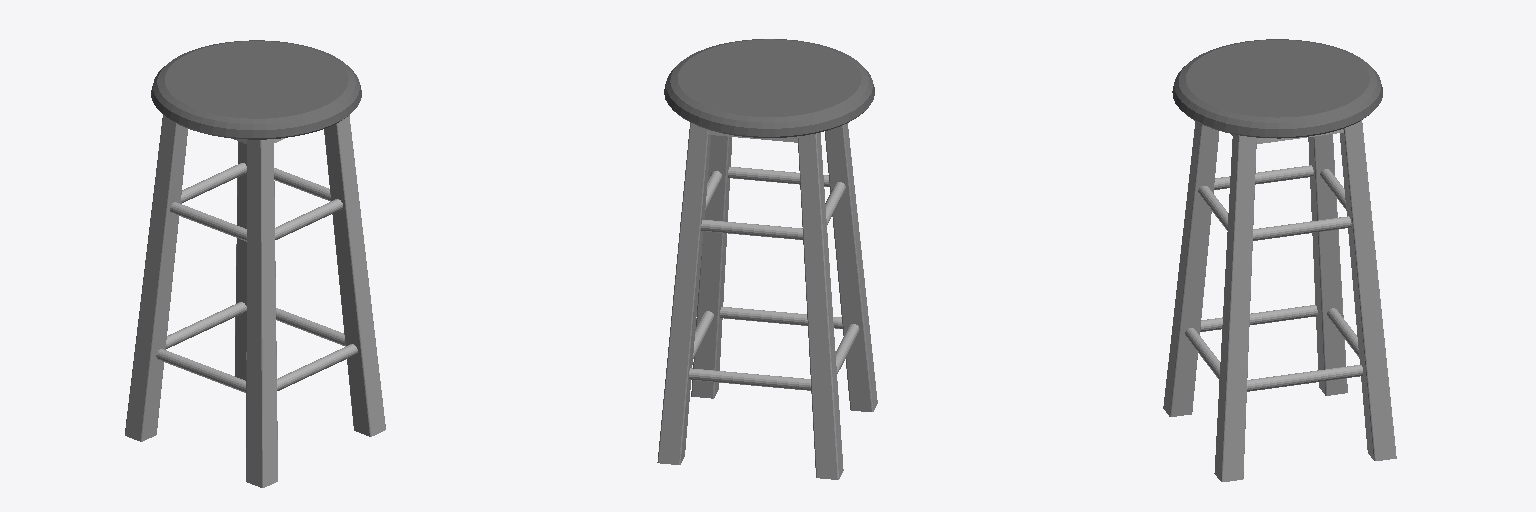
File: stool.obj
The picture shows the model from 3 angles: view 1: azimuth 30°, elevation 25°; view 2: azimuth 150°, elevation 25°; view 3: azimuth 270°, elevation 25°; orthographic projection.
Visible parts, largest first — view 1: stoolSupor; view 2: stoolSupor; view 3: stoolSupor.
Boxes of the visible parts, box(x1,y1,x2,y2) form: stoolSupor: box(125, 40, 385, 487); stoolSupor: box(657, 39, 877, 479); stoolSupor: box(1163, 39, 1396, 481).
Bounding box in the file's own units: 0.2761 × 0.4619 × 0.276.